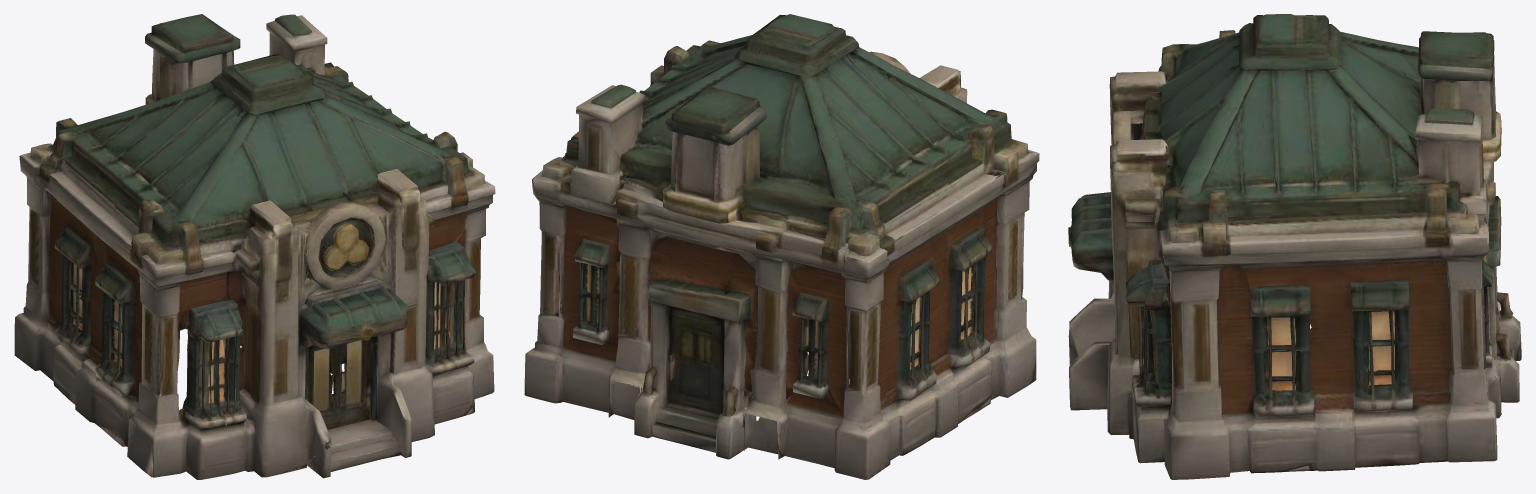
The picture shows the model from 3 angles, left to right: view 1: azimuth 30°, elevation 25°; view 2: azimuth 150°, elevation 25°; view 3: azimuth 270°, elevation 25°; orthographic projection. The views are drawn at different scales.
Visible parts, largest first — view 1: expansion__vault_bank__native_mobile; view 2: expansion__vault_bank__native_mobile; view 3: expansion__vault_bank__native_mobile.
Part boxes in pixels (box(x1,y1,x2,y2)): expansion__vault_bank__native_mobile: box(14, 14, 495, 479); expansion__vault_bank__native_mobile: box(524, 14, 1039, 479); expansion__vault_bank__native_mobile: box(1068, 14, 1521, 479).
Bounding box in the file's own units: 0.9665 × 0.8832 × 1.
1 material, 1 textured.
